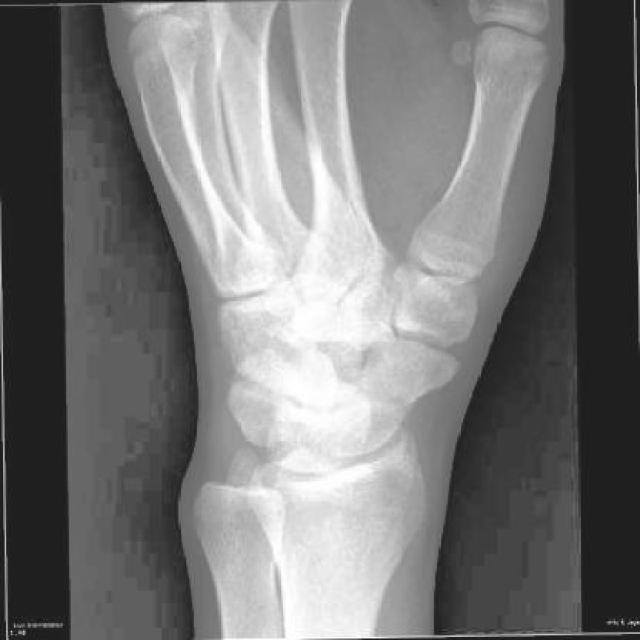Fracture: (337, 363, 420, 414)
